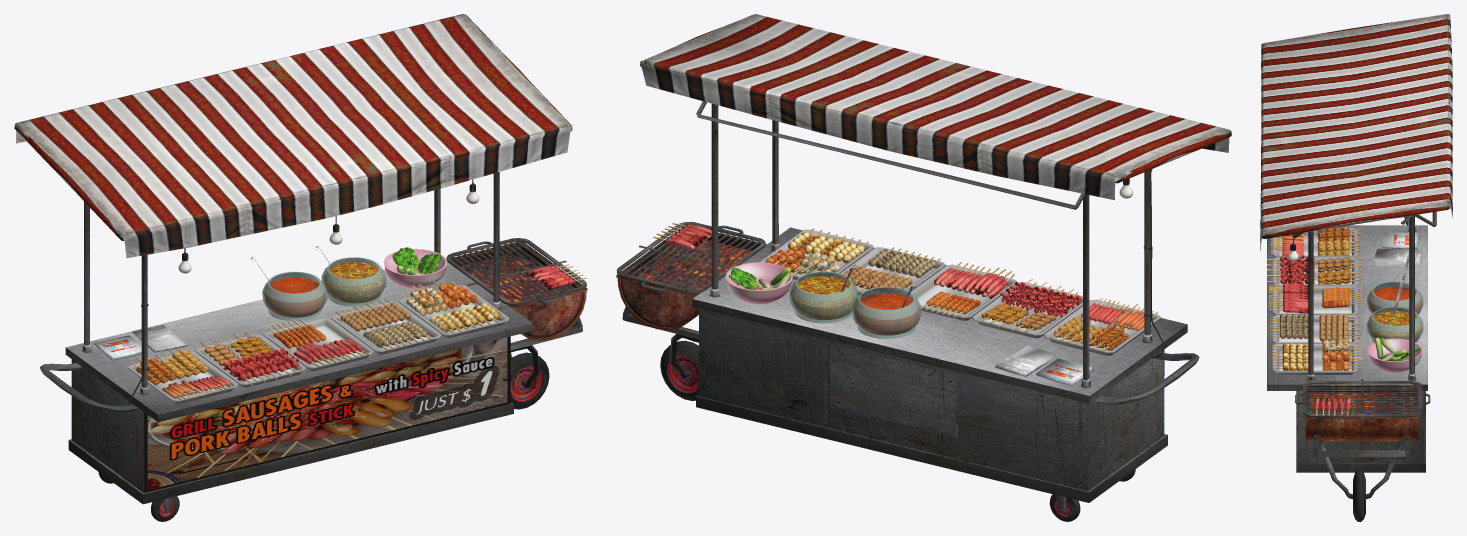
File: avika_street_food_cart.glb
3 views of the same model, side by side, from view 1: azimuth 30°, elevation 25°; view 2: azimuth 150°, elevation 25°; view 3: azimuth 270°, elevation 25° (orthographic). The views are drawn at different scales.
Parts seen in each view (by area): view 1: cart, grill, cart_decor, blow_glass, tray01, tray04, tray02, tray03, tray05, light; view 2: cart, grill, cart_decor, blow_glass, tray04, tray03, tray05, tray01, tray02; view 3: cart, grill, cart_decor, tray01, tray03, tray04, tray02, tray05, blow_glass.
Part boxes in pixels (box(x1,y1,x2,y2)): cart: box(14, 14, 572, 504); grill: box(40, 238, 587, 521); cart_decor: box(93, 246, 447, 360); blow_glass: box(262, 257, 386, 321); tray01: box(399, 280, 509, 337); tray04: box(195, 331, 305, 387); tray02: box(331, 299, 441, 354); tray03: box(263, 318, 373, 370); tray05: box(128, 346, 238, 403); light: box(128, 179, 479, 403); cart: box(640, 14, 1231, 502); grill: box(616, 222, 1199, 521); cart_decor: box(725, 262, 1094, 385); blow_glass: box(789, 271, 921, 338); tray04: box(972, 279, 1082, 338); tray03: box(909, 262, 1016, 320); tray05: box(1044, 298, 1160, 355); tray01: box(760, 228, 873, 280); tray02: box(837, 247, 945, 295); cart: box(1260, 14, 1452, 472); grill: box(1295, 217, 1430, 521); cart_decor: box(1367, 232, 1422, 372); tray01: box(1272, 338, 1362, 374); tray03: box(1269, 283, 1364, 314); tray04: box(1267, 254, 1362, 285); tray02: box(1270, 314, 1360, 343); tray05: box(1270, 226, 1360, 257); blow_glass: box(1367, 281, 1423, 342).
Bounding box in the file's own units: 3.91 × 2.65 × 1.48.
Materials: 10 (10 with a texture image).
